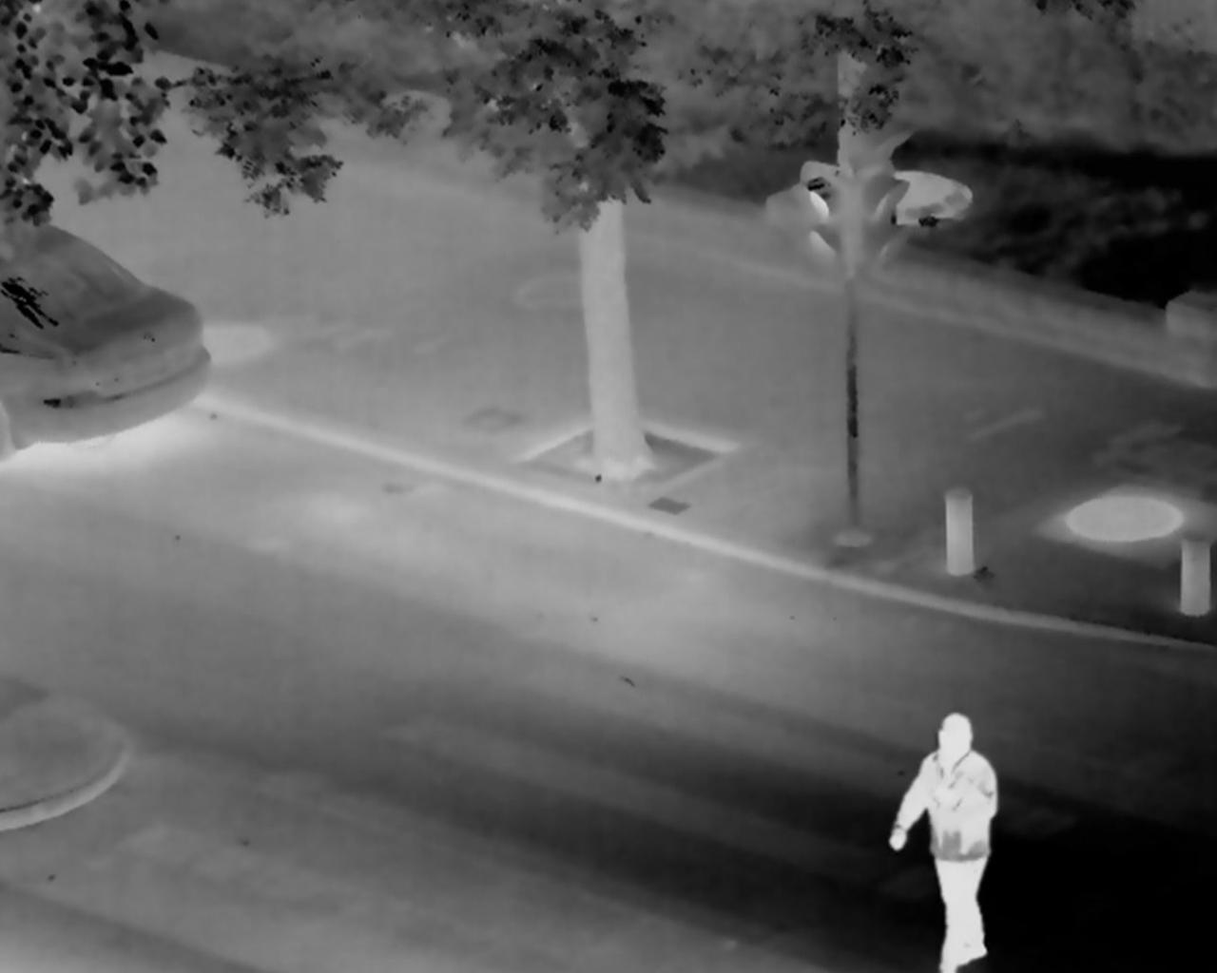person: (876, 714, 1020, 973)
